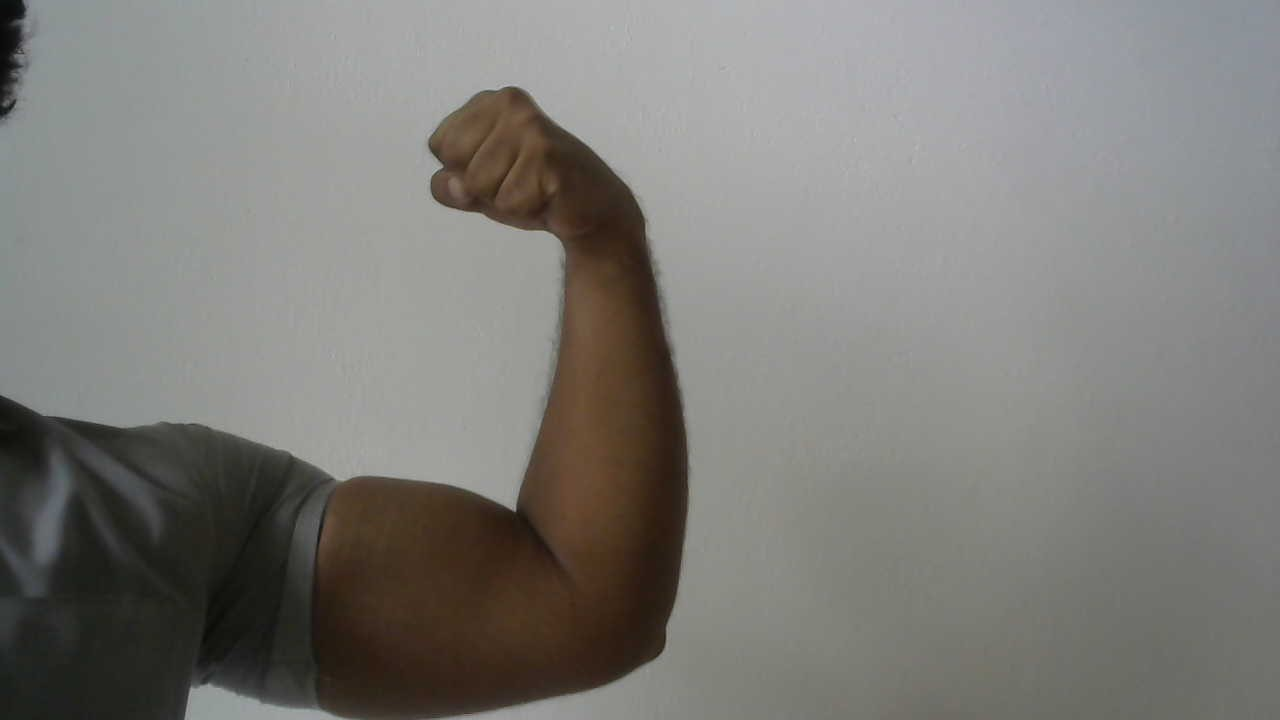yes: (409, 57, 681, 296)
